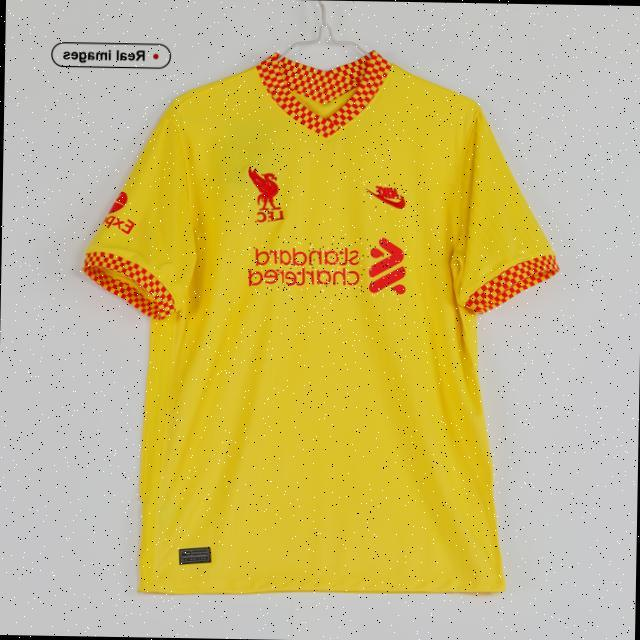Nike: (362, 181, 406, 209)
Standard Chartered: (248, 235, 407, 298)
